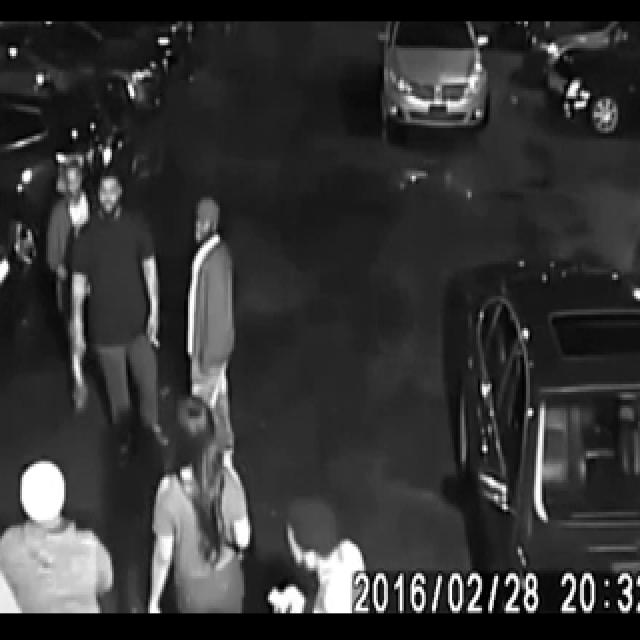shooting: (26, 51, 338, 582)
